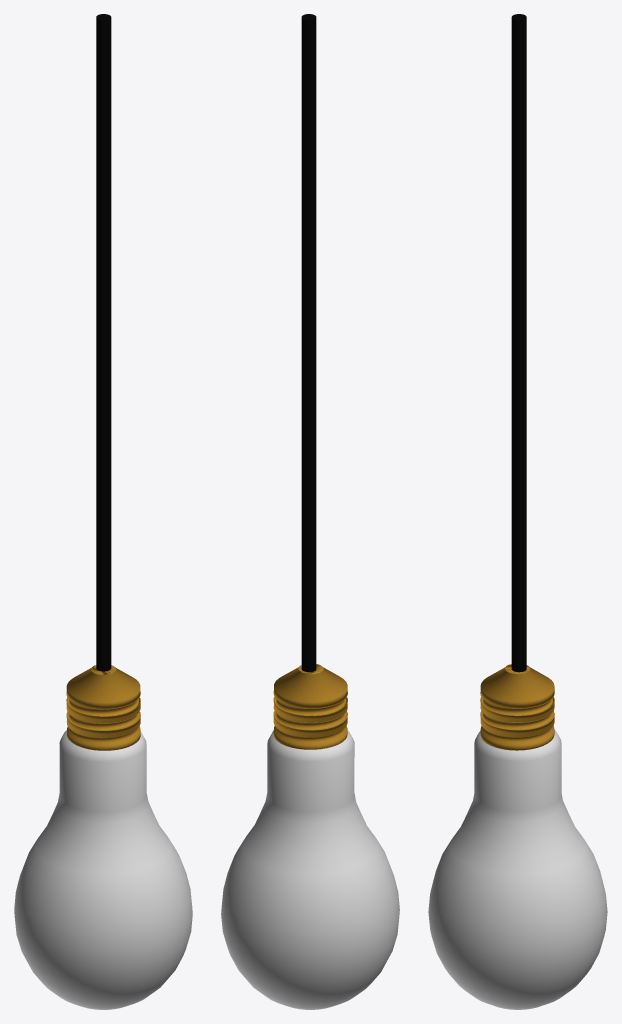
Rendered from ceilinglight.fbx.
The picture shows the model from 3 angles, left to right: view 1: azimuth 30°, elevation 25°; view 2: azimuth 150°, elevation 25°; view 3: azimuth 270°, elevation 25°; orthographic projection.
Parts seen in each view (by area): view 1: Sphere.001, Cylinder.001, Cylinder; view 2: Sphere.001, Cylinder.001, Cylinder; view 3: Sphere.001, Cylinder.001, Cylinder.
Boxes of the visible parts, bbox=[...] form: Sphere.001: bbox=[14, 730, 192, 1009]; Cylinder.001: bbox=[96, 14, 111, 671]; Cylinder: bbox=[66, 665, 140, 750]; Sphere.001: bbox=[221, 730, 399, 1009]; Cylinder.001: bbox=[301, 14, 316, 672]; Cylinder: bbox=[273, 664, 347, 749]; Sphere.001: bbox=[428, 730, 607, 1009]; Cylinder.001: bbox=[511, 14, 526, 672]; Cylinder: bbox=[480, 664, 554, 750].
Size of the model in its own units: 6 by 36.41 by 6.
